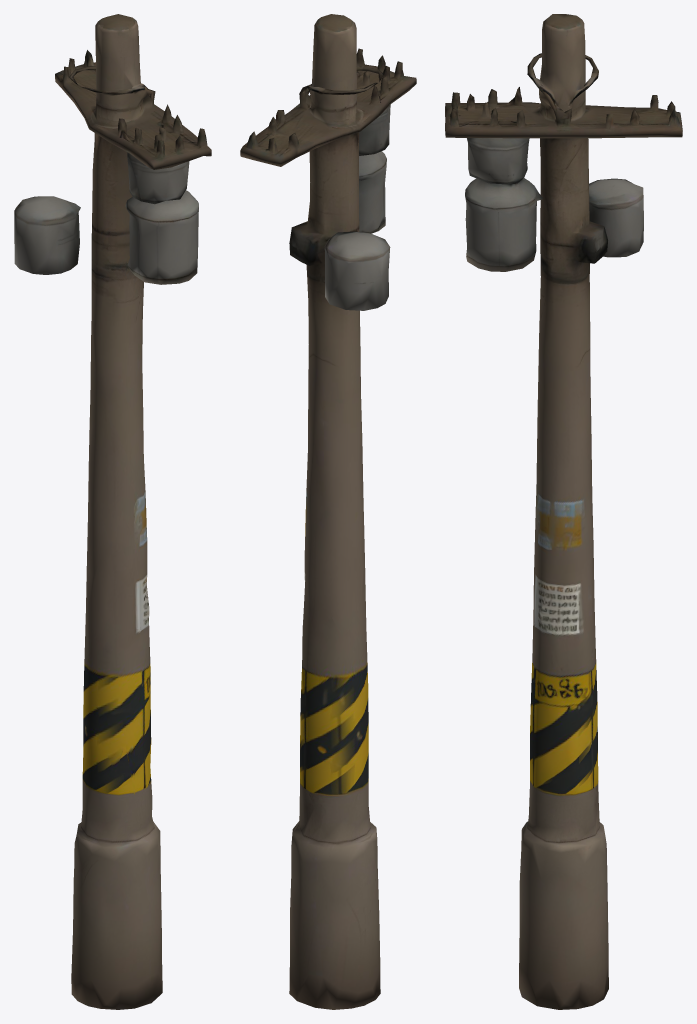
File: utility+pole+3d+model.fbx
3 views of the same model, side by side, from view 1: azimuth 30°, elevation 25°; view 2: azimuth 150°, elevation 25°; view 3: azimuth 270°, elevation 25° (orthographic).
Visible parts, largest first — view 1: tripo_node_7b7c42b5; view 2: tripo_node_7b7c42b5; view 3: tripo_node_7b7c42b5.
Part boxes in pixels (x1,y1,x2,y2): tripo_node_7b7c42b5: (14, 14, 211, 1009); tripo_node_7b7c42b5: (240, 14, 416, 1009); tripo_node_7b7c42b5: (445, 14, 682, 1009).
Bounding box in the file's own units: 0.1298 × 0.9997 × 0.2216.
1 material, 1 textured.
